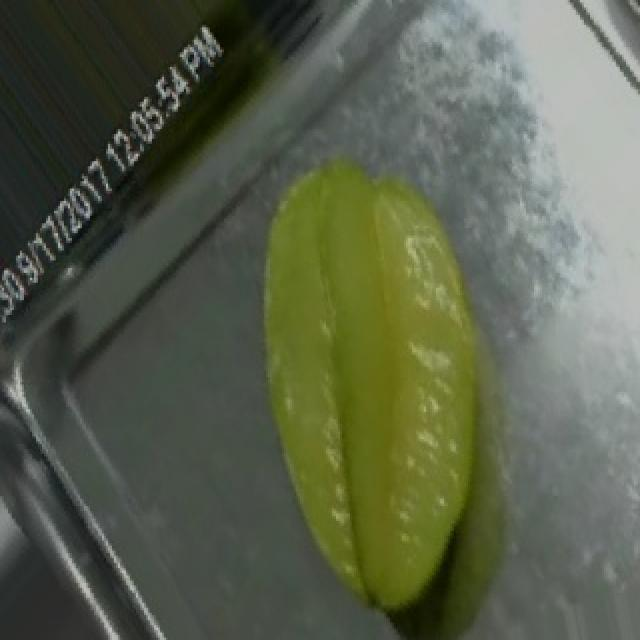fruit: (180, 109, 568, 543)
